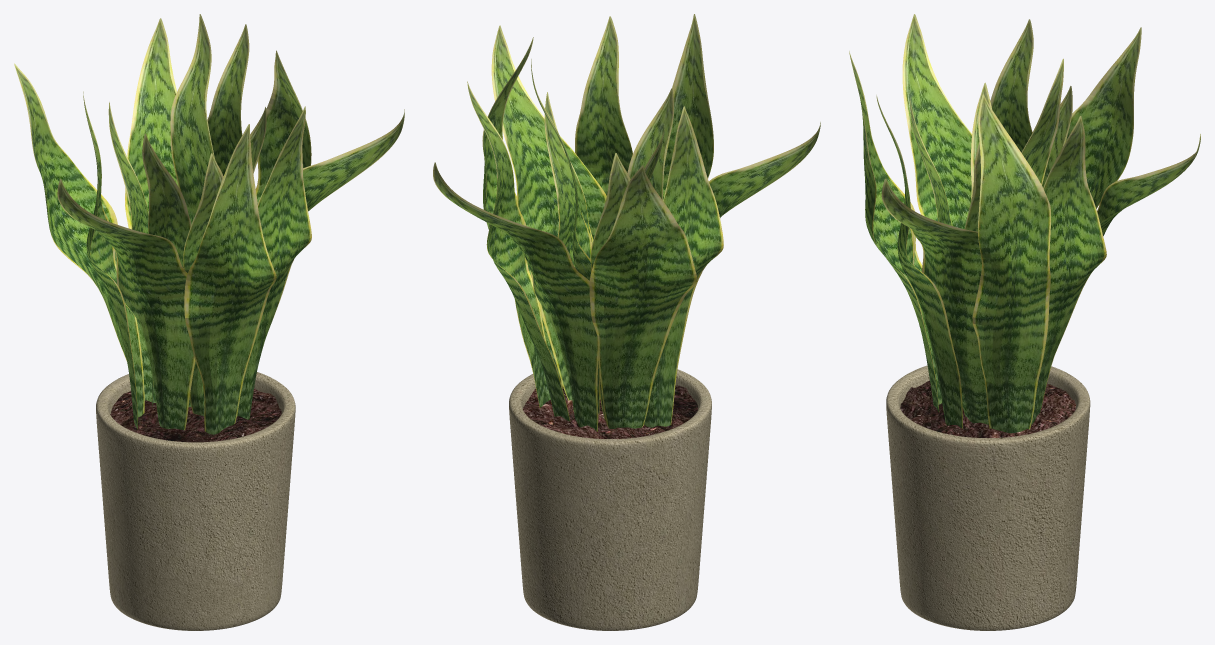
Rendered from plant2.glb.
The picture shows the model from 3 angles, left to right: view 1: azimuth 30°, elevation 25°; view 2: azimuth 150°, elevation 25°; view 3: azimuth 270°, elevation 25°; orthographic projection. The views are drawn at different scales.
Visible parts, largest first — view 1: Plane_SnakePlant_leaf_0, Cylinder_Flowerpot_0, Cylinder.001_Soil_0; view 2: Plane_SnakePlant_leaf_0, Cylinder_Flowerpot_0, Cylinder.001_Soil_0; view 3: Plane_SnakePlant_leaf_0, Cylinder_Flowerpot_0, Cylinder.001_Soil_0.
Part boxes in pixels (x1,y1,x2,y2): Plane_SnakePlant_leaf_0: (14,14,404,434); Cylinder_Flowerpot_0: (96,372,295,630); Cylinder.001_Soil_0: (110,388,281,442); Plane_SnakePlant_leaf_0: (433,14,820,431); Cylinder_Flowerpot_0: (509,369,711,630); Cylinder.001_Soil_0: (523,385,697,438); Plane_SnakePlant_leaf_0: (849,14,1200,433); Cylinder_Flowerpot_0: (886,365,1090,630); Cylinder.001_Soil_0: (900,380,1075,437).
Size of the model in its own units: 0.5455 by 0.8563 by 0.4901.
3 materials, 3 textured.
